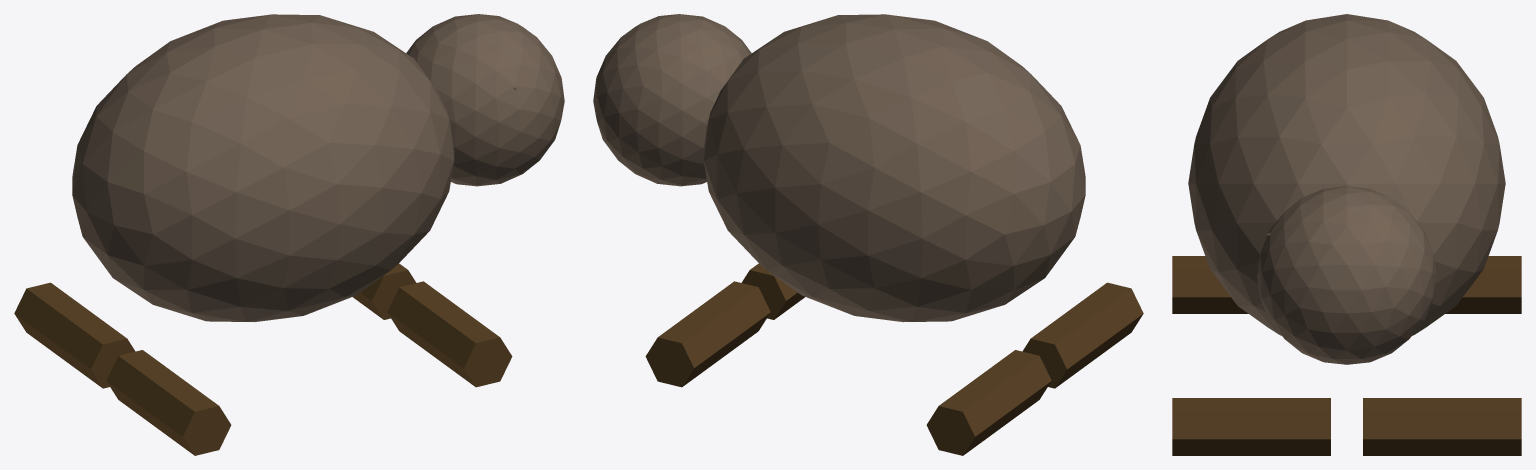
File: boar.glb
The picture shows the model from 3 angles, left to right: view 1: azimuth 30°, elevation 25°; view 2: azimuth 150°, elevation 25°; view 3: azimuth 270°, elevation 25°; orthographic projection. The views are drawn at different scales.
Visible parts, largest first — view 1: world; view 2: world; view 3: world.
Boxes of the visible parts, <box> form: world: <box>14,14,564,455</box>; world: <box>593,14,1143,455</box>; world: <box>1172,14,1521,455</box>.
Bounding box in the file's own units: 1.05 × 0.7076 × 0.66.
